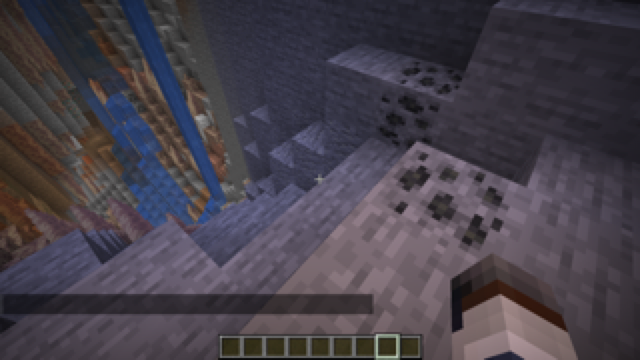coal: (381, 51, 516, 256)
